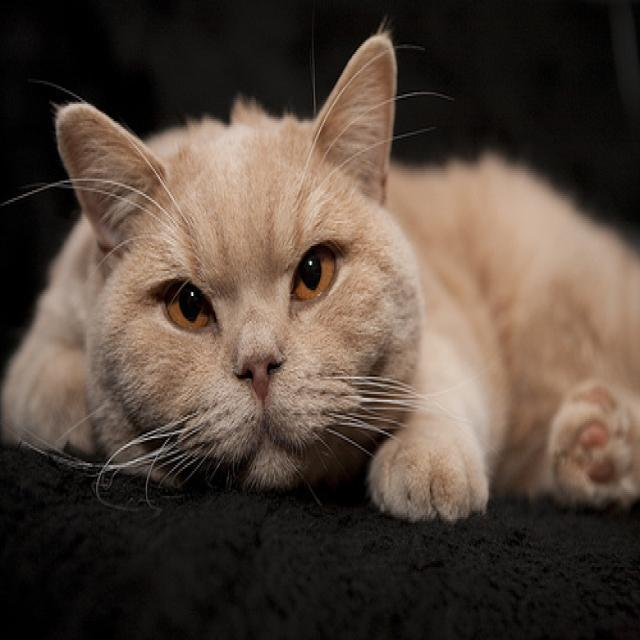British_Shorthair: (52, 31, 429, 500)
